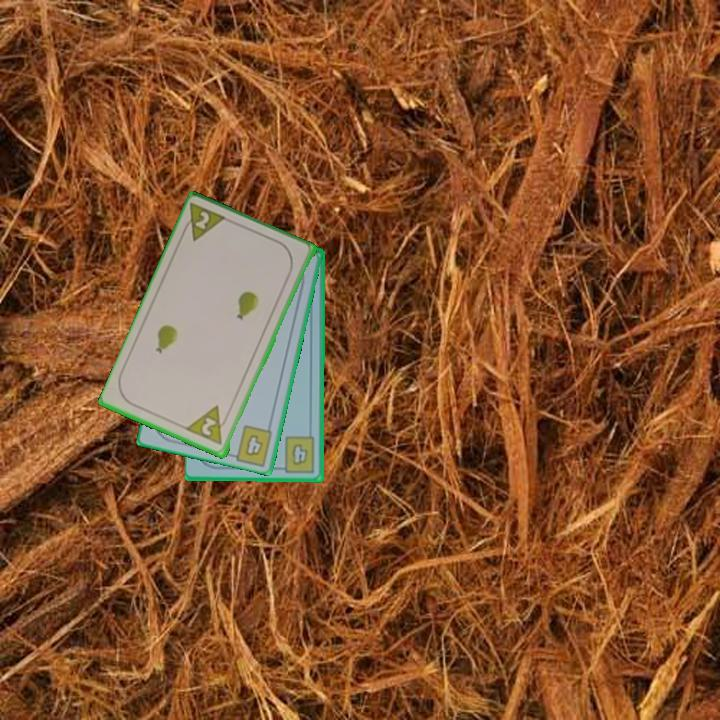2p: (178, 200, 231, 245), (184, 402, 232, 448)
4b: (275, 433, 317, 475), (242, 431, 266, 459)
